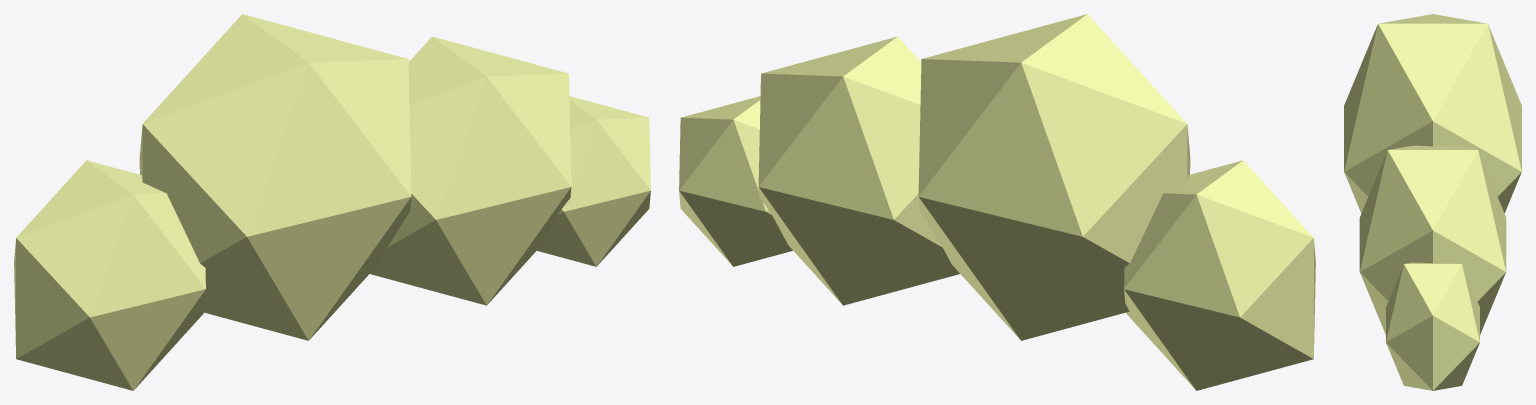
The model's file is cloud.glb.
The picture shows the model from 3 angles, left to right: view 1: azimuth 30°, elevation 25°; view 2: azimuth 150°, elevation 25°; view 3: azimuth 270°, elevation 25°; orthographic projection. The views are drawn at different scales.
Visible parts, largest first — view 1: Puff1, Puff2, Puff0, Puff3; view 2: Puff1, Puff2, Puff0, Puff3; view 3: Puff1, Puff2, Puff3.
Part boxes in pixels (<box>): Puff1: <box>139,14,411,340</box>; Puff2: <box>370,36,571,305</box>; Puff0: <box>14,160,205,390</box>; Puff3: <box>537,96,650,266</box>; Puff1: <box>918,14,1190,340</box>; Puff2: <box>758,36,959,305</box>; Puff0: <box>1124,160,1315,390</box>; Puff3: <box>679,96,792,266</box>; Puff1: <box>1344,14,1521,212</box>; Puff2: <box>1359,145,1506,334</box>; Puff3: <box>1386,262,1479,390</box>.
Bounding box in the file's own units: 3.44 × 1.53 × 1.01.
